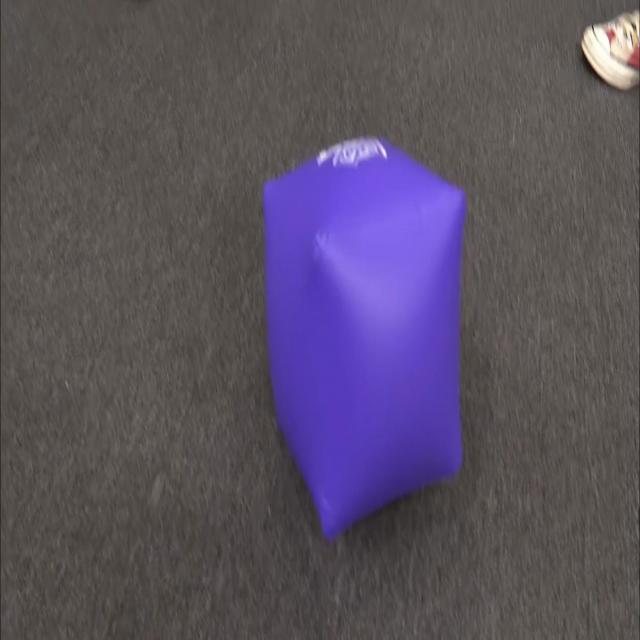frc_cube: (257, 118, 468, 558)
